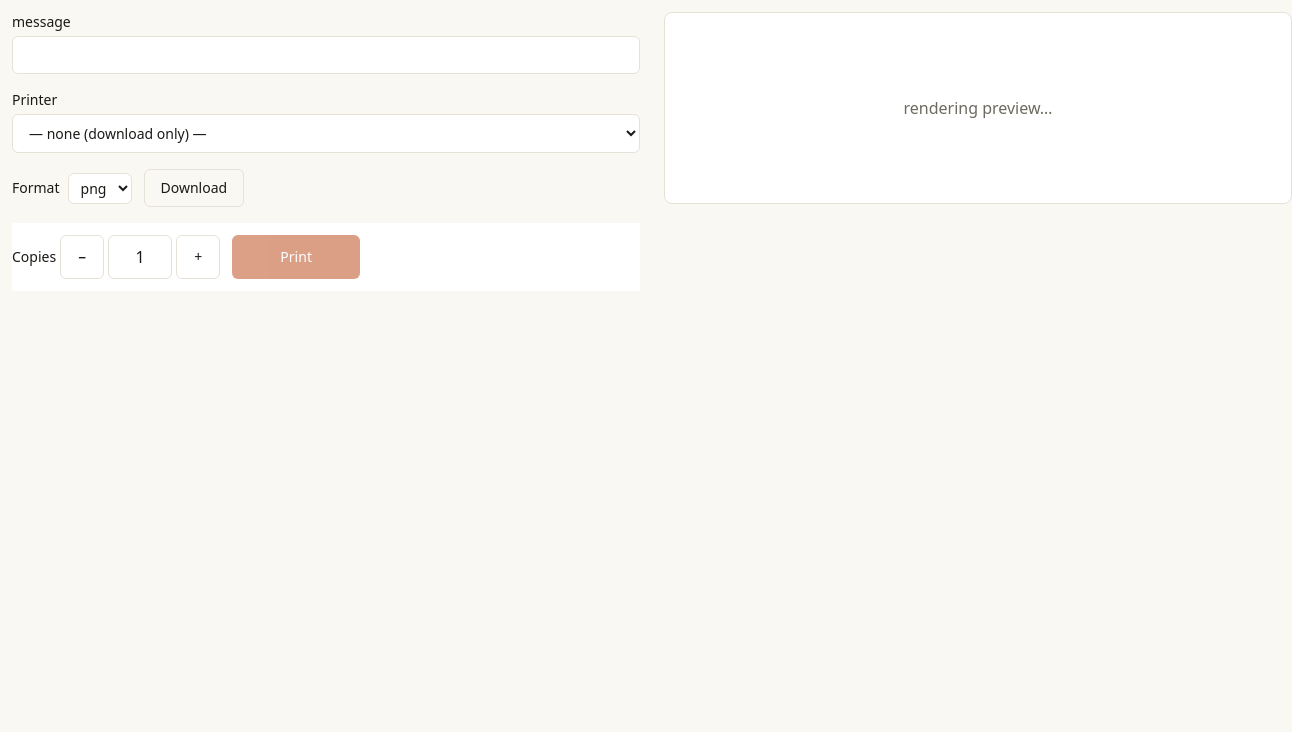
Test: PrintForm copies › shows every label the printer refused
This screenshot has width=1292, height=732.
In the field named "message": (326, 55) [12,36,640,74], type "hello"
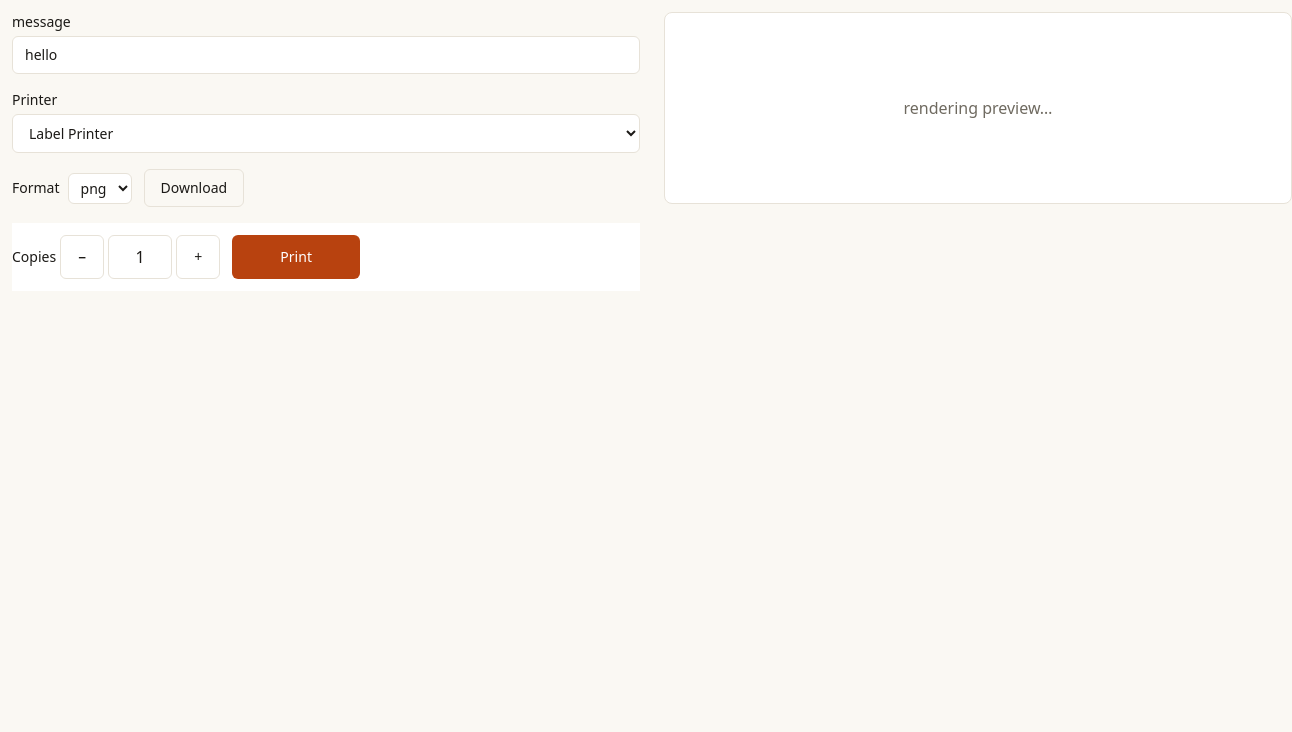
Select "Label Printer" in the dropdown labelled "Printer": (326, 134) [12,114,640,153]
Now the button "Print" is enabled
Click the button "Print": (296, 257) [232,235,360,279]
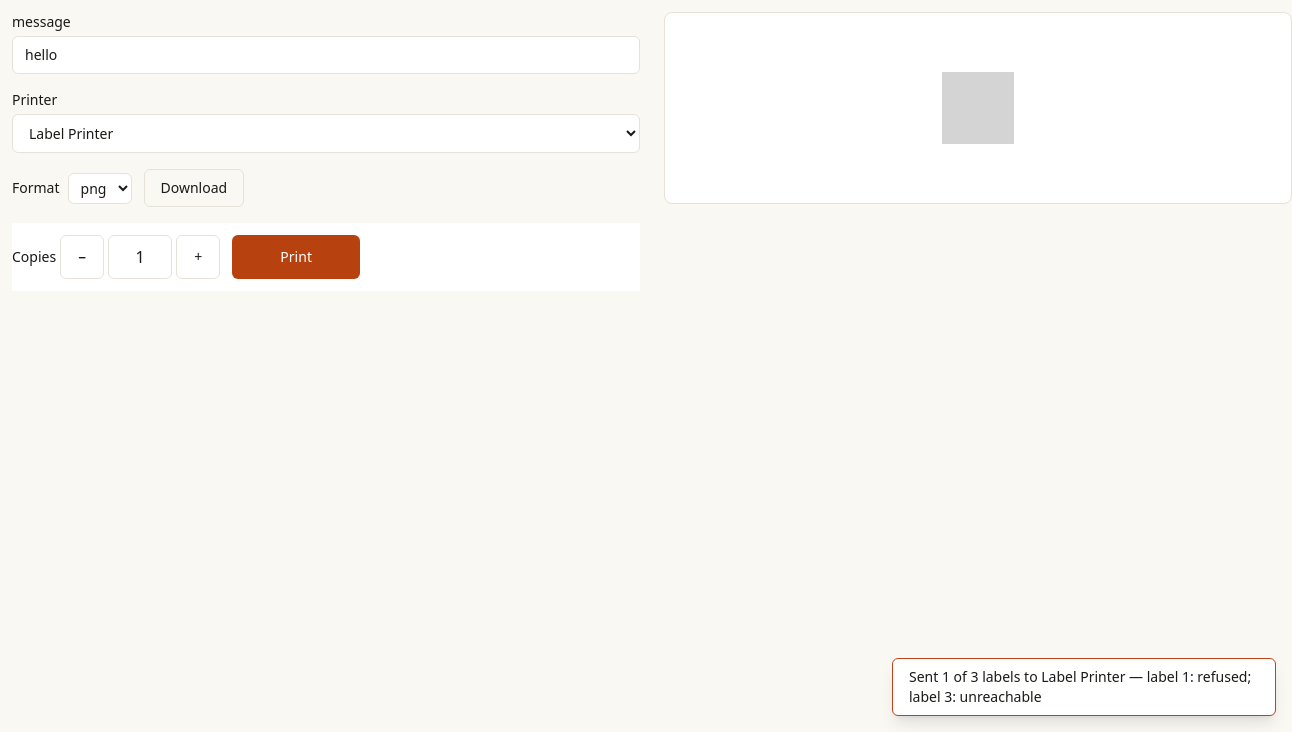
Now the button "Sent 1 of 3 labels to Label Printer" shows "label 1: refused", box [892,658,1276,716]
Now the button "Sent 1 of 3 labels to Label Printer" shows "label 3: unreachable", box [892,658,1276,716]
